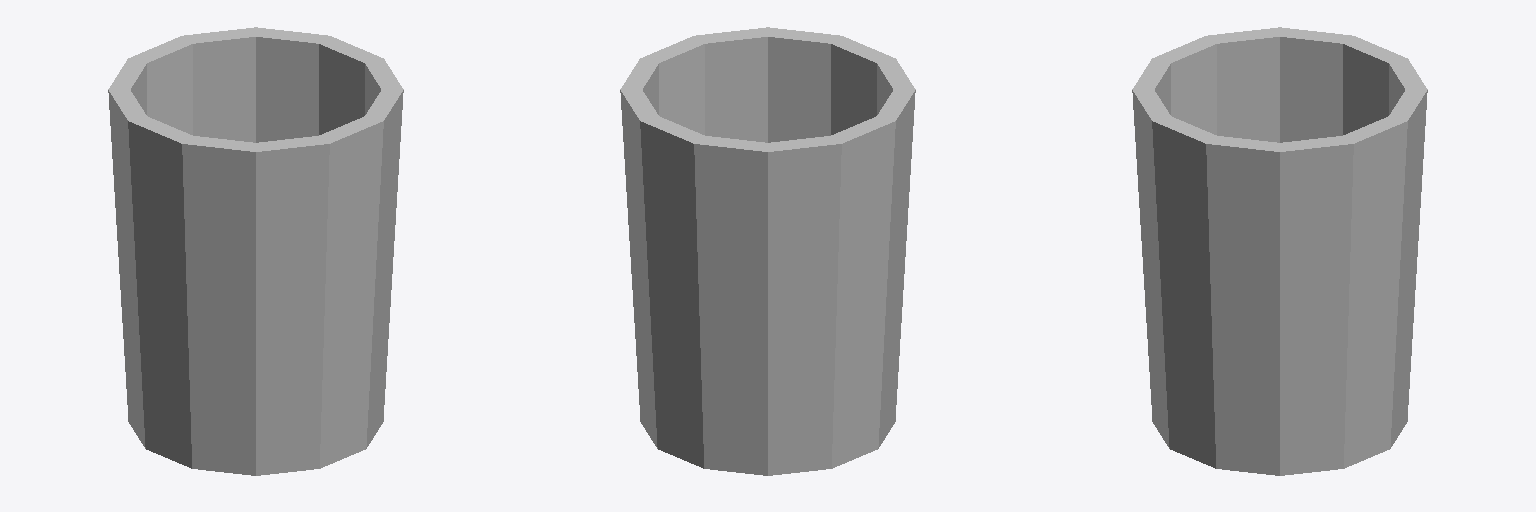
The model's file is Vaso.obj.
3 renders of one model, left to right at view 1: azimuth 30°, elevation 25°; view 2: azimuth 150°, elevation 25°; view 3: azimuth 270°, elevation 25°, orthographic.
Parts seen in each view (by area): view 1: Cylinder; view 2: Cylinder; view 3: Cylinder.
Part boxes in pixels (x1,y1,x2,y2): Cylinder: (108, 27, 403, 475); Cylinder: (620, 27, 915, 475); Cylinder: (1132, 27, 1427, 475).
Bounding box in the file's own units: 0.6402 × 0.7951 × 0.6402.